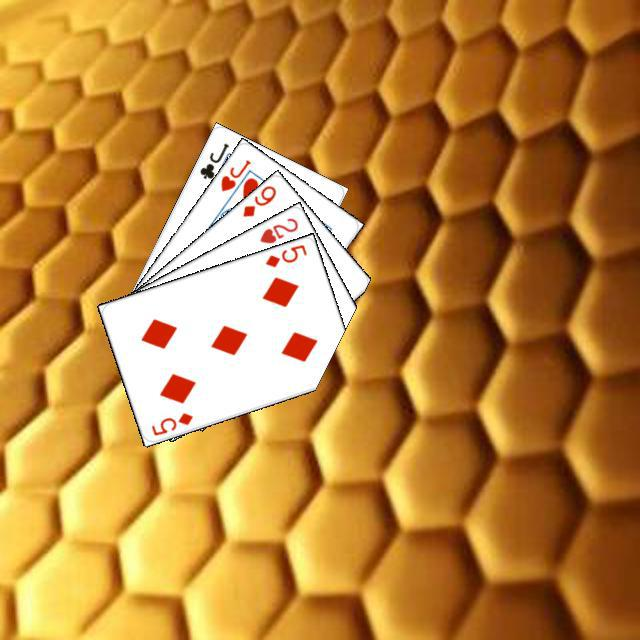2h: (255, 213, 300, 245)
5d: (146, 408, 195, 437), (260, 240, 308, 269)
9d: (238, 180, 278, 219)
Jc: (195, 138, 231, 181)
Jh: (216, 155, 252, 193)
